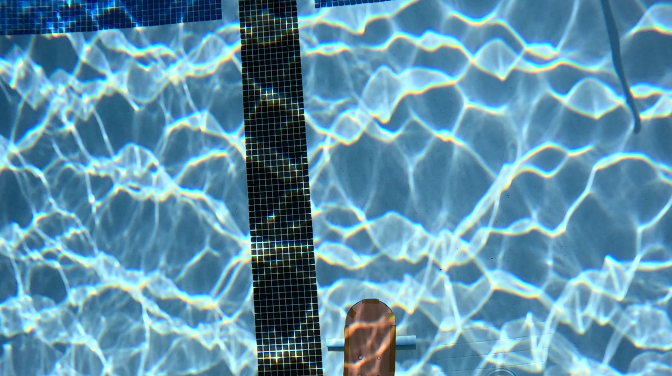pathmarker: (343, 295, 396, 375)
